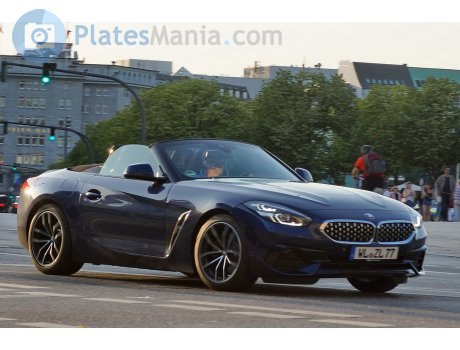License Plates: (358, 248, 397, 255)
